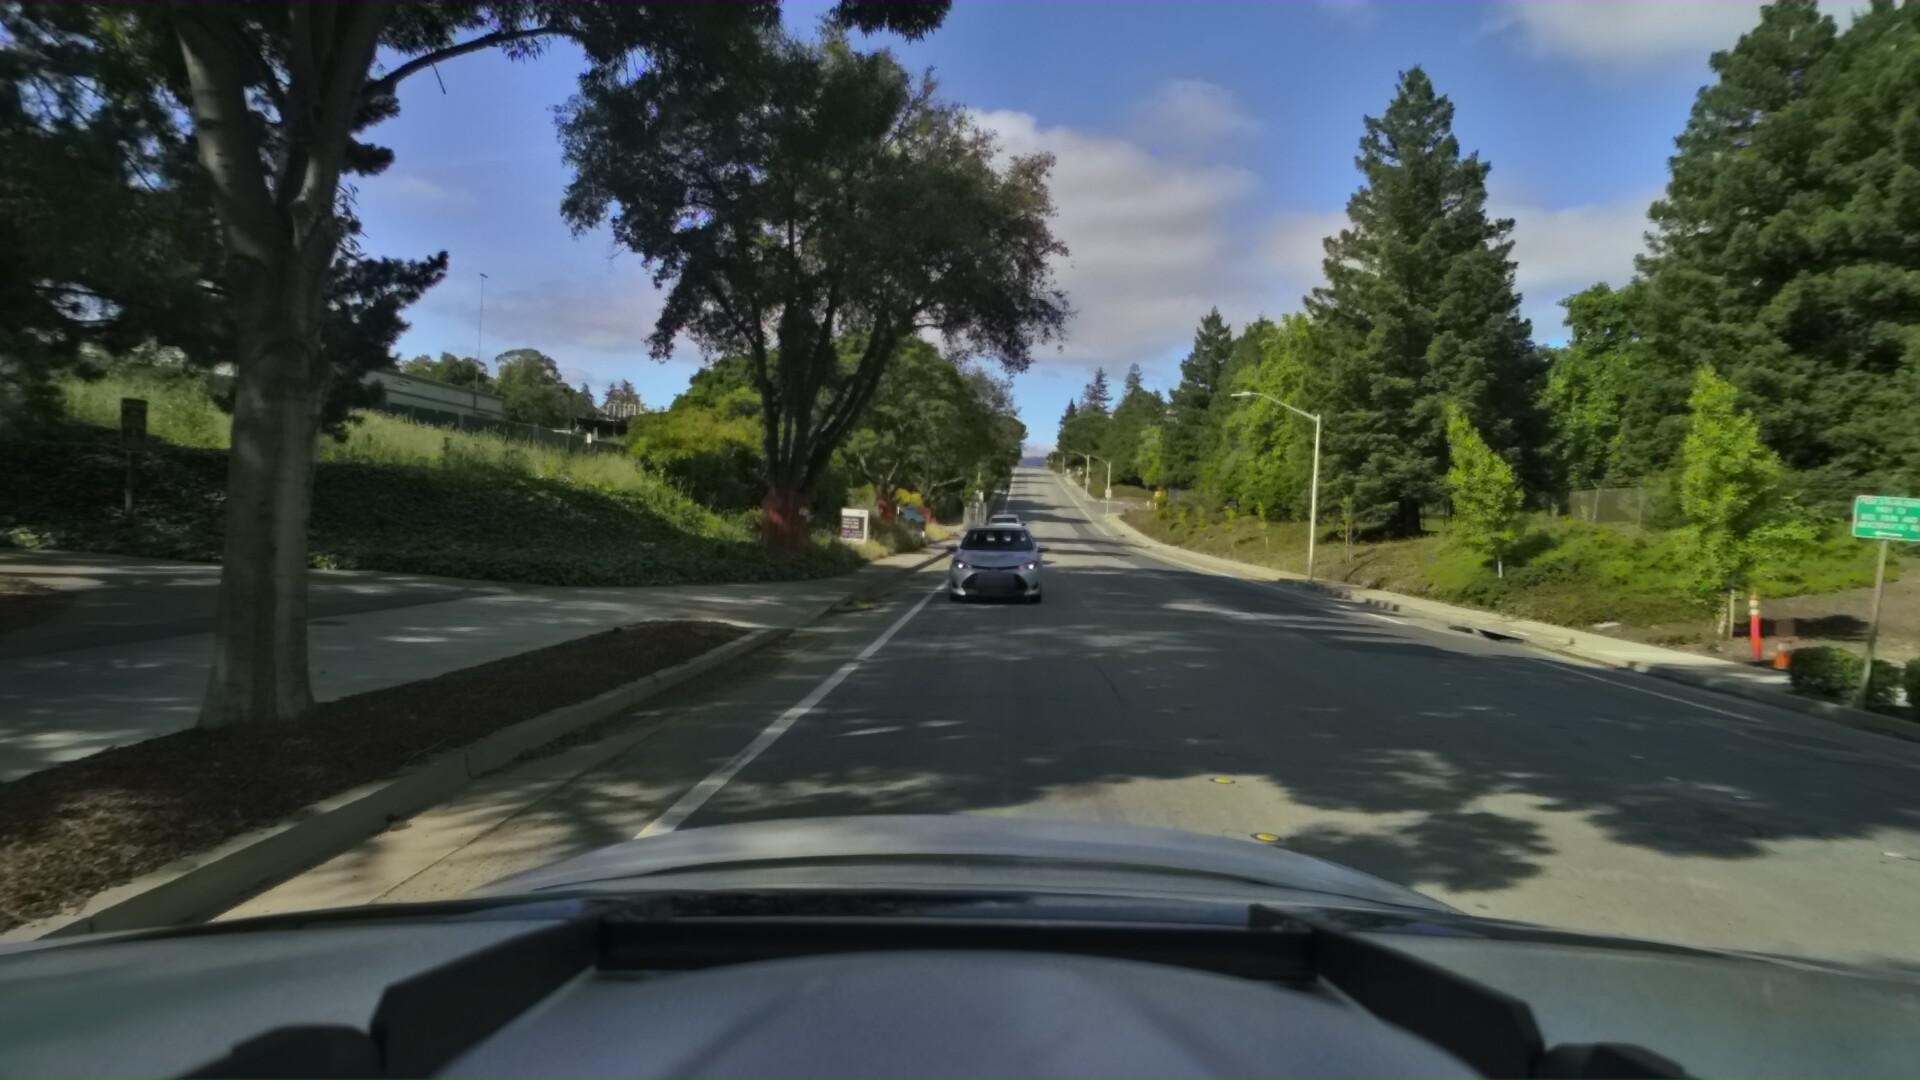car: (942, 509, 1048, 607), (978, 510, 1036, 560)
